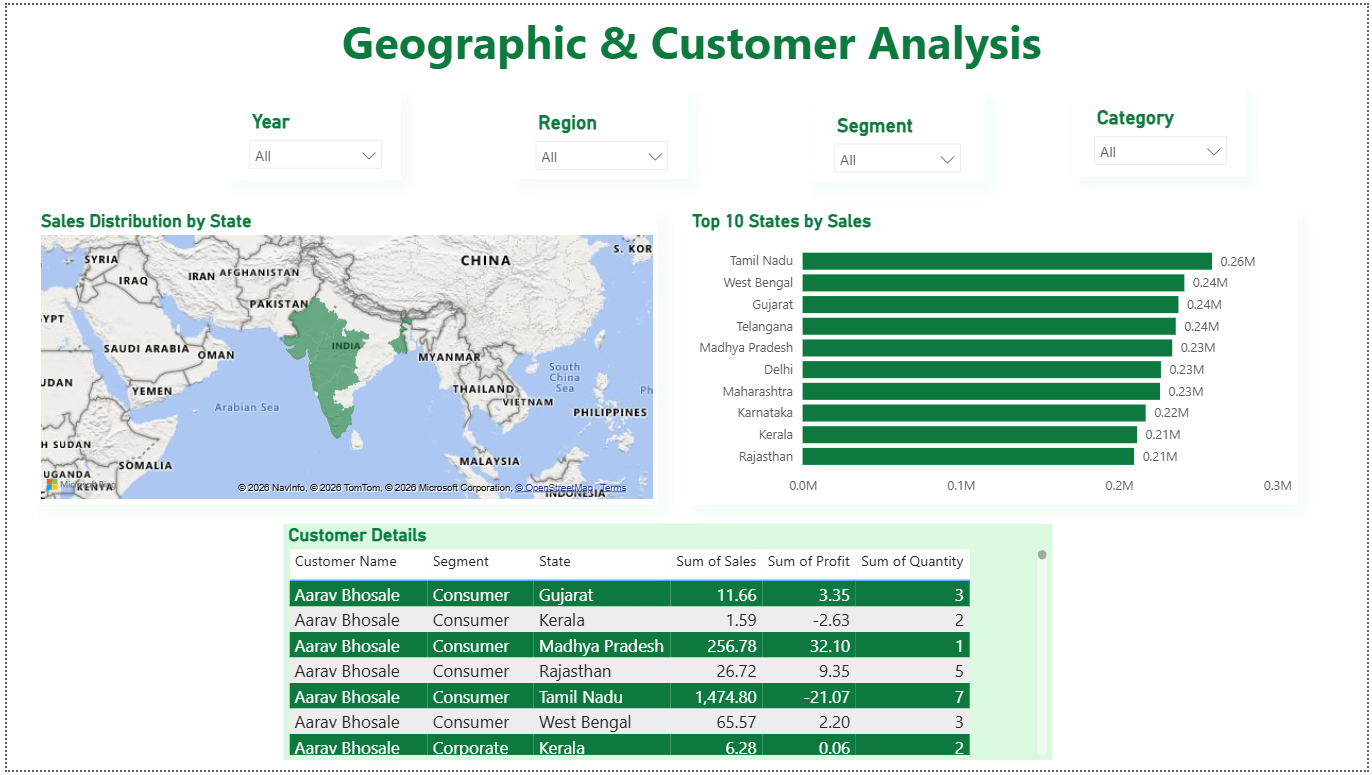

Layout of this report page (visuals, bound fields, positions):
{"tool":"powerbi","page":{"name":"Geographic & Customer Analysis","canvas":[1280,720],"ordinal":3},"visuals":[{"type":"textbox","box":[9.8,0,1270.5,67.3],"z":0},{"type":"shape","box":[206.4,81.2,165.1,84.4],"z":1000},{"type":"slicer","fields":{"Values":["orders.Order Date.Variation.Date Hierarchy.Year"]},"box":[217.4,94.6,145.5,59.9],"z":2000},{"type":"shape","box":[476.7,80.2,165.1,84.4],"z":3000},{"type":"slicer","fields":{"Values":["orders.Region"]},"box":[486.7,95.8,145.5,59.9],"z":4000},{"type":"shape","box":[755.5,83.9,165.1,84.4],"z":5000},{"type":"slicer","fields":{"Values":["orders.Segment"]},"box":[767.7,97.3,139.4,59.9],"z":6000},{"type":"shape","box":[1002,77.5,165.1,84.4],"z":7000},{"type":"slicer","fields":{"Values":["orders.Order Date.Variation.Date Hierarchy.Year","orders.Category"]},"box":[1013,91,145.5,59.9],"z":8000},{"type":"filledMap","title":"Sales Distribution by State","fields":{"Category":["orders.State"]},"box":[26.9,193.2,585.7,277.6],"z":9000},{"type":"clusteredBarChart","title":"Top 10 States by Sales","fields":{"Category":["orders.State"],"Y":["Sum(orders.Sales)"]},"box":[639.5,193.2,574.7,277.6],"z":10000},{"type":"tableEx","title":"Customer Details","fields":{"Values":["orders.Customer Name","orders.Segment","orders.State","Sum(orders.Sales)","Sum(orders.Profit)","Sum(orders.Quantity)"]},"box":[260.5,487.9,723.9,222.6],"z":11000}]}

Visuals, with their boxes in screenshot pixels (x1, y1, x2, y2), scaled from the page's 1280x720 canvas onto the 1372x775 screenshot:
textbox: (11,0,1371,72)
shape: (221,87,398,178)
slicer - orders.Order Date.Variation.Date Hierarchy.Year: (233,102,389,166)
shape: (511,86,688,177)
slicer - orders.Region: (522,103,678,168)
shape: (810,90,987,181)
slicer - orders.Segment: (823,105,972,169)
shape: (1074,83,1251,174)
slicer - orders.Order Date.Variation.Date Hierarchy.Year x orders.Category: (1086,98,1242,162)
"Sales Distribution by State" filledMap: (29,208,657,507)
"Top 10 States by Sales" clusteredBarChart: (685,208,1301,507)
"Customer Details" tableEx: (279,525,1055,765)
